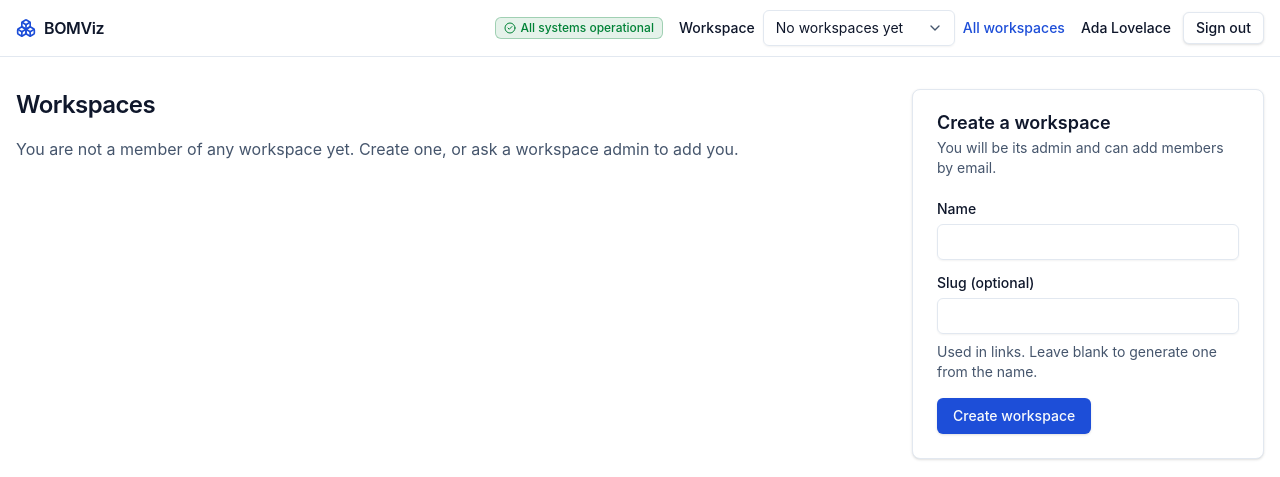
UserMenu › still clears the local session when the logout request fails
Step 1. Click the button "Sign out" → (1224, 28), box [1183,12,1264,44]
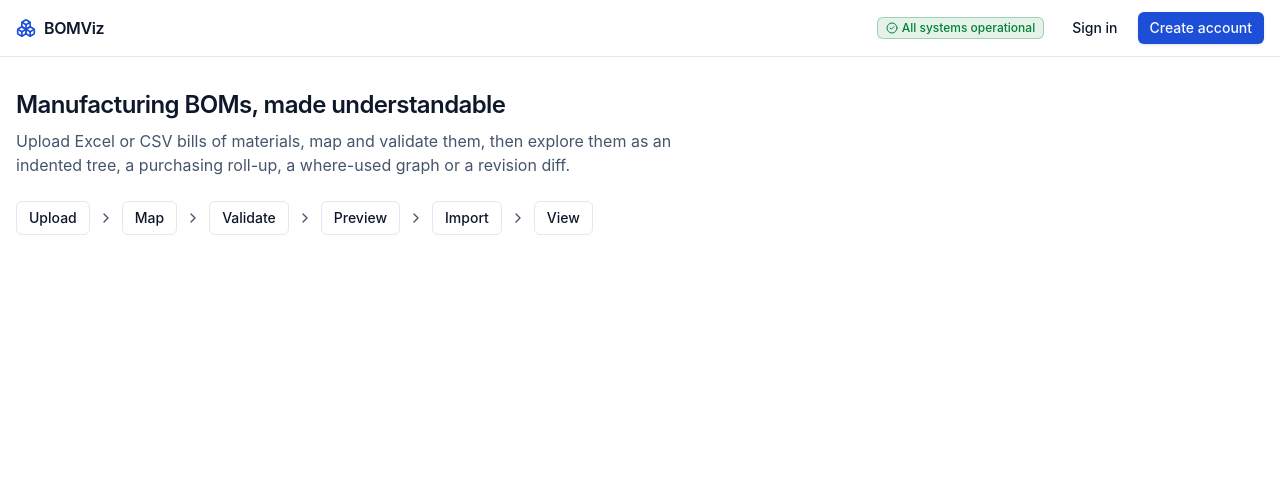
Result: the link "Sign in" is shown at [1072,19,1118,36]
